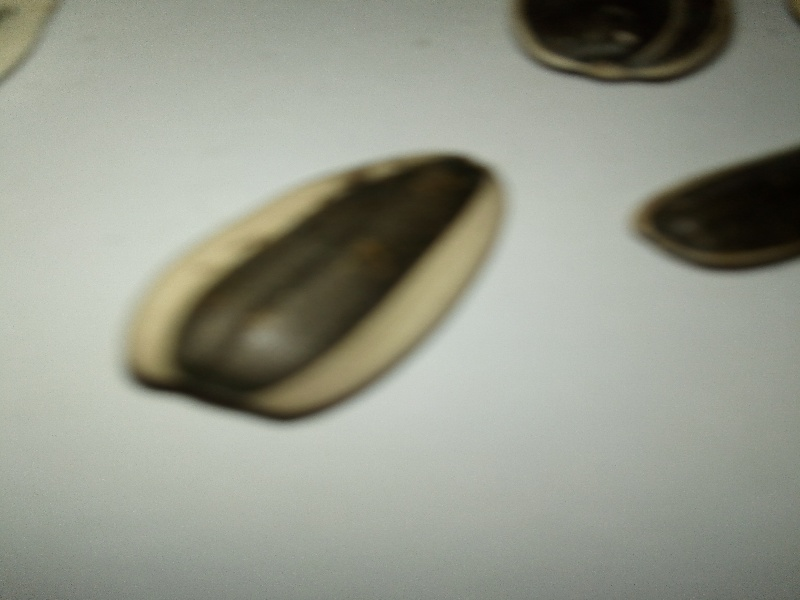girasol: (118, 126, 538, 458)
